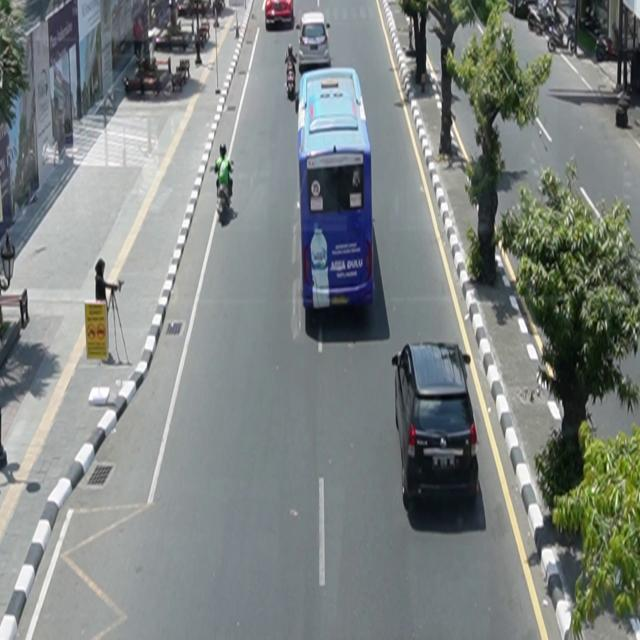bus: (297, 67, 375, 313)
car: (392, 341, 480, 512), (266, 1, 295, 31)
